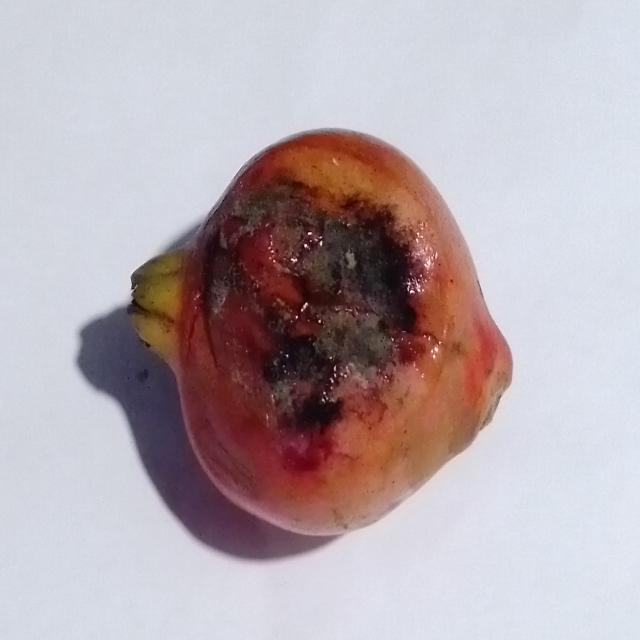Rotten: (125, 114, 516, 547)
